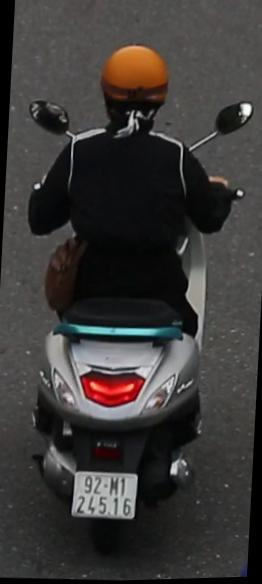LP: (68, 466, 142, 529)
helmet: (94, 38, 176, 138)
